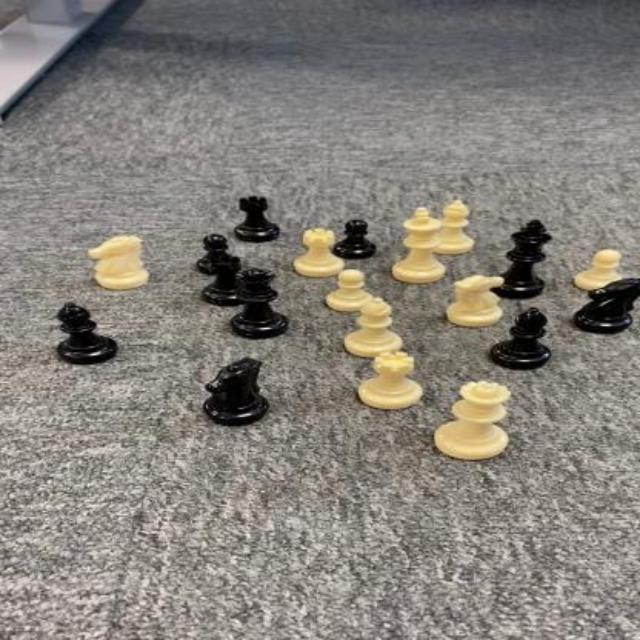black-bishop: (52, 301, 118, 364), (488, 306, 549, 369)
black-king: (490, 219, 553, 299)
black-knight: (201, 359, 271, 425), (574, 278, 640, 334)
black-pawn: (197, 234, 241, 275), (333, 219, 377, 259)
black-queen: (230, 268, 288, 338)
black-rook: (202, 255, 252, 305), (234, 195, 280, 242)
white-bishop: (345, 297, 403, 358), (430, 200, 474, 255)
white-king: (392, 207, 444, 283)
white-knight: (88, 236, 149, 289), (444, 276, 505, 328)
white-pawn: (325, 269, 377, 312), (573, 249, 623, 290)
white-queen: (433, 382, 511, 460)
white-rook: (357, 352, 421, 410), (292, 228, 344, 277)
